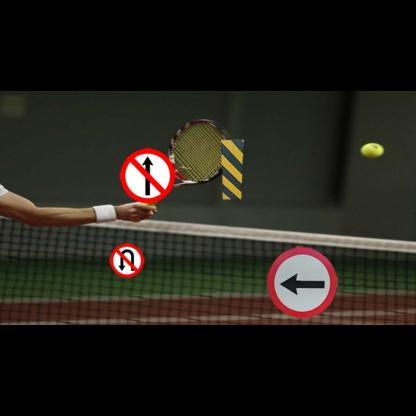O-MP: (221, 140, 244, 199)
R-24a: (267, 246, 337, 318)
R-3: (120, 148, 175, 203)
R-5a: (110, 243, 144, 277)
